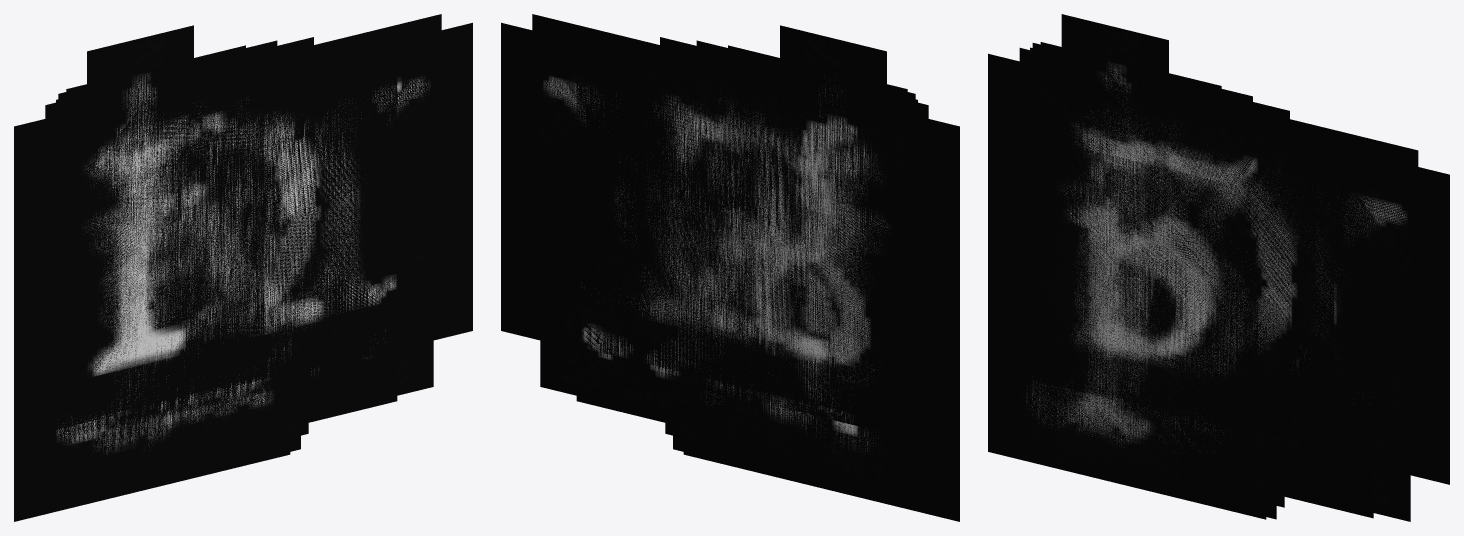
The model's file is BriosoPro_chipped_outline.fbx.
The picture shows the model from 3 angles, left to right: view 1: azimuth 30°, elevation 25°; view 2: azimuth 150°, elevation 25°; view 3: azimuth 330°, elevation 25°; orthographic projection.
Visible parts, largest first — view 1: Untitled.073, Untitled.048, Untitled.058, Untitled.039, Untitled.035, Untitled.045, Untitled.090, Untitled.059, Untitled.083, Untitled.094, Untitled.095, Untitled.096 (+33 smaller); view 2: Untitled.096, Untitled.055, Untitled.052, Untitled.058, Untitled.027, Untitled.040, Untitled.057, Untitled.053, Untitled.077, Untitled.059, Untitled.042, Untitled.035 (+25 smaller); view 3: Untitled.083, Untitled.077, Untitled.039, Untitled.058, Untitled.061, Untitled.052, Untitled.035, Untitled.022, Untitled.007, Untitled.095, Untitled.048, Untitled.075 (+38 smaller).
Boxes of the visible parts, x1,y1,x2,y2 form: Untitled.073: (50,55,264,426); Untitled.048: (54,14,441,428); Untitled.058: (40,22,472,435); Untitled.039: (48,48,358,406); Untitled.035: (84,52,397,475); Untitled.045: (16,124,240,496); Untitled.090: (48,100,365,431); Untitled.059: (56,83,368,388); Untitled.083: (42,147,282,511); Untitled.094: (61,48,248,493); Untitled.095: (87,25,193,503); Untitled.096: (63,47,251,475); Untitled.096: (722,47,910,493); Untitled.055: (626,42,917,409); Untitled.052: (540,30,800,448); Untitled.058: (501,22,933,436); Untitled.027: (698,92,910,409); Untitled.040: (660,37,915,399); Untitled.057: (600,47,933,433); Untitled.053: (621,49,865,370); Untitled.077: (785,88,959,521); Untitled.059: (605,48,890,382); Untitled.042: (603,45,909,356); Untitled.035: (576,52,815,454); Untitled.083: (1017,133,1258,514); Untitled.077: (988,53,1163,494); Untitled.039: (1024,69,1334,450); Untitled.058: (1014,80,1449,484); Untitled.061: (1044,68,1315,442); Untitled.052: (1041,73,1410,521); Untitled.035: (1045,98,1373,518); Untitled.022: (1038,84,1250,438); Untitled.007: (1032,43,1252,469); Untitled.095: (1061,14,1168,495); Untitled.048: (1027,107,1418,473); Untitled.075: (1025,58,1276,385).
Bounding box in the file's own units: 147 × 138 × 2.25e-05.
Materials: 1 (1 with a texture image).
